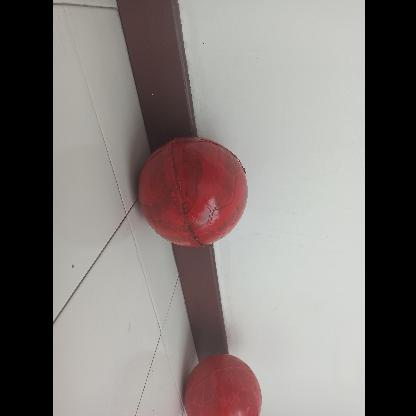red_ball: (139, 133, 251, 245), (187, 357, 257, 415)
